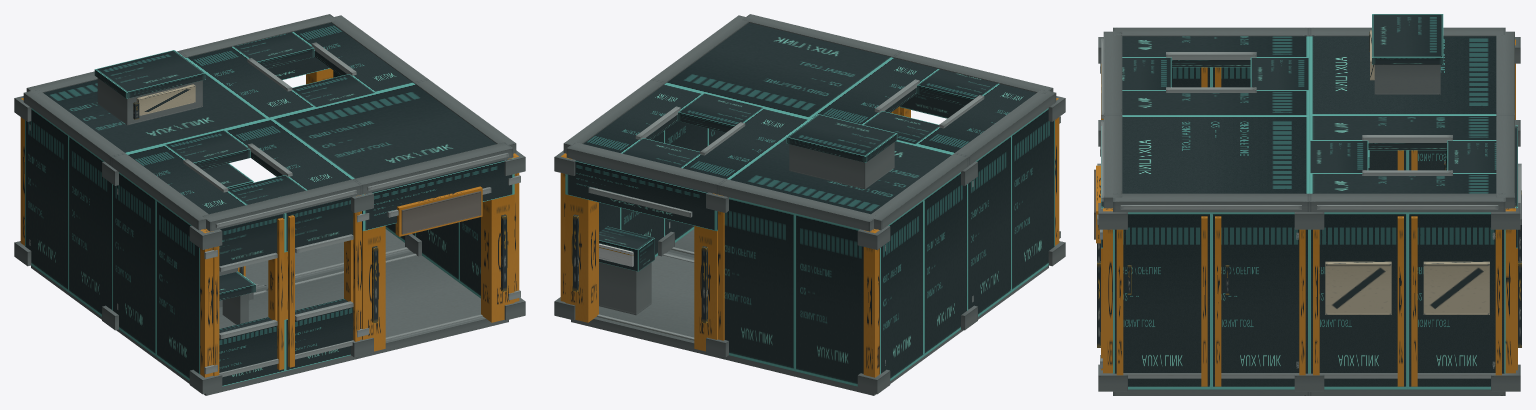
Rendered from PurificationStation_LOD2.obj.
3 views of the same model, side by side, from view 1: azimuth 30°, elevation 25°; view 2: azimuth 150°, elevation 25°; view 3: azimuth 270°, elevation 25° (orthographic). The views are drawn at different scales.
Parts seen in each view (by area): view 1: 005_roof_4m.006, 007_roof_skylight_4m.006, 019_doorframe_4m.006, 001_roof_skylight_4m.006, 017_wall_window_2m.006, 004_floor_4m.006, 016_wall_window_2m.006, 003_roof_4m.006, 024_wall_vent_2m.006, 021_wall_solid_2m.006, 025_wall_vent_2m.006, 022_wall_solid_2m.006 (+23 smaller); view 2: 030_doorframe_4m.006, 005_roof_4m.006, 028_wall_solid_2m.010, 027_wall_solid_2m.006, 007_roof_skylight_4m.006, 001_roof_skylight_4m.006, 022_wall_solid_2m.006, 025_wall_vent_2m.006, 021_wall_solid_2m.006, 024_wall_vent_2m.006, 003_roof_4m.006, 039_hvac_unit.006 (+20 smaller); view 3: 032_wall_solid_2m.006, 035_wall_vent_2m.006, 033_wall_solid_2m.006, 036_wall_vent_2m.006, 005_roof_4m.006, 001_roof_skylight_4m.006, 007_roof_skylight_4m.006, 003_roof_4m.006, 039_hvac_unit.006, 034_beam_4m.006, 037_beam_4m.006, 015_column_4m.010 (+17 smaller).
Part boxes in pixels (bbox=[...]): 005_roof_4m.006: bbox=[270, 83, 496, 179]; 007_roof_skylight_4m.006: bbox=[187, 22, 413, 118]; 019_doorframe_4m.006: bbox=[362, 158, 514, 351]; 001_roof_skylight_4m.006: bbox=[127, 119, 351, 214]; 017_wall_window_2m.006: bbox=[285, 197, 359, 371]; 004_floor_4m.006: bbox=[295, 251, 508, 358]; 016_wall_window_2m.006: bbox=[213, 213, 285, 386]; 003_roof_4m.006: bbox=[43, 58, 269, 153]; 024_wall_vent_2m.006: bbox=[68, 135, 112, 316]; 021_wall_solid_2m.006: bbox=[156, 199, 200, 380]; 025_wall_vent_2m.006: bbox=[25, 108, 68, 292]; 022_wall_solid_2m.006: bbox=[112, 172, 155, 356]; 030_doorframe_4m.006: bbox=[565, 158, 717, 351]; 005_roof_4m.006: bbox=[666, 22, 892, 118]; 028_wall_solid_2m.010: bbox=[724, 197, 794, 371]; 027_wall_solid_2m.006: bbox=[794, 213, 863, 386]; 007_roof_skylight_4m.006: bbox=[583, 83, 809, 179]; 001_roof_skylight_4m.006: bbox=[810, 58, 1036, 153]; 022_wall_solid_2m.006: bbox=[967, 135, 1011, 316]; 025_wall_vent_2m.006: bbox=[879, 199, 923, 380]; 021_wall_solid_2m.006: bbox=[1011, 108, 1054, 292]; 024_wall_vent_2m.006: bbox=[924, 172, 967, 356]; 003_roof_4m.006: bbox=[728, 119, 952, 214]; 039_hvac_unit.006: bbox=[786, 114, 897, 189]; 032_wall_solid_2m.006: bbox=[1113, 212, 1211, 389]; 035_wall_vent_2m.006: bbox=[1309, 212, 1407, 389]; 033_wall_solid_2m.006: bbox=[1211, 212, 1309, 389]; 036_wall_vent_2m.006: bbox=[1407, 212, 1505, 389]; 005_roof_4m.006: bbox=[1122, 115, 1309, 193]; 001_roof_skylight_4m.006: bbox=[1122, 36, 1309, 115]; 007_roof_skylight_4m.006: bbox=[1309, 115, 1496, 193]; 003_roof_4m.006: bbox=[1309, 36, 1496, 115]; 039_hvac_unit.006: bbox=[1369, 14, 1443, 94]; 034_beam_4m.006: bbox=[1113, 193, 1309, 212]; 037_beam_4m.006: bbox=[1309, 193, 1505, 212]; 015_column_4m.010: bbox=[1491, 203, 1520, 391].
Bounding box in the file's own units: 8.53 × 5.3 × 8.72.
1 material, 1 textured.
